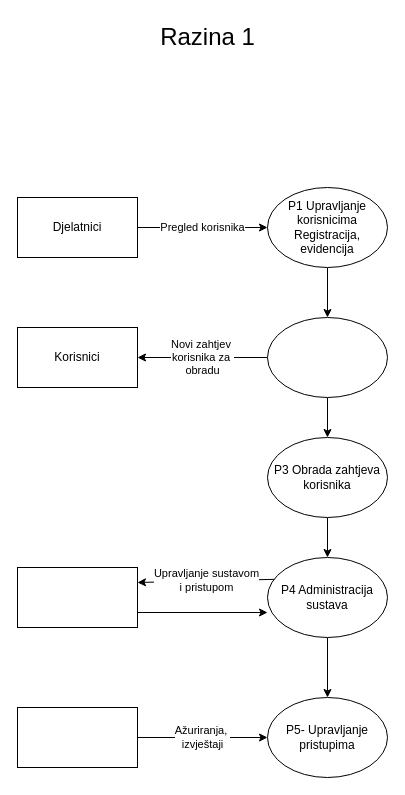
The diagram is 405 pixels wide and 795 high, and some of its shapes have lost their labels. Here are the shapes that lost their labels. From the top down, the centre of each, then its label:
At pixel 327 357: "P2 Upravljanje obavijestima i događajima".
At pixel 77 597: "Administrator".
At pixel 77 737: "Održavanje sustava".
